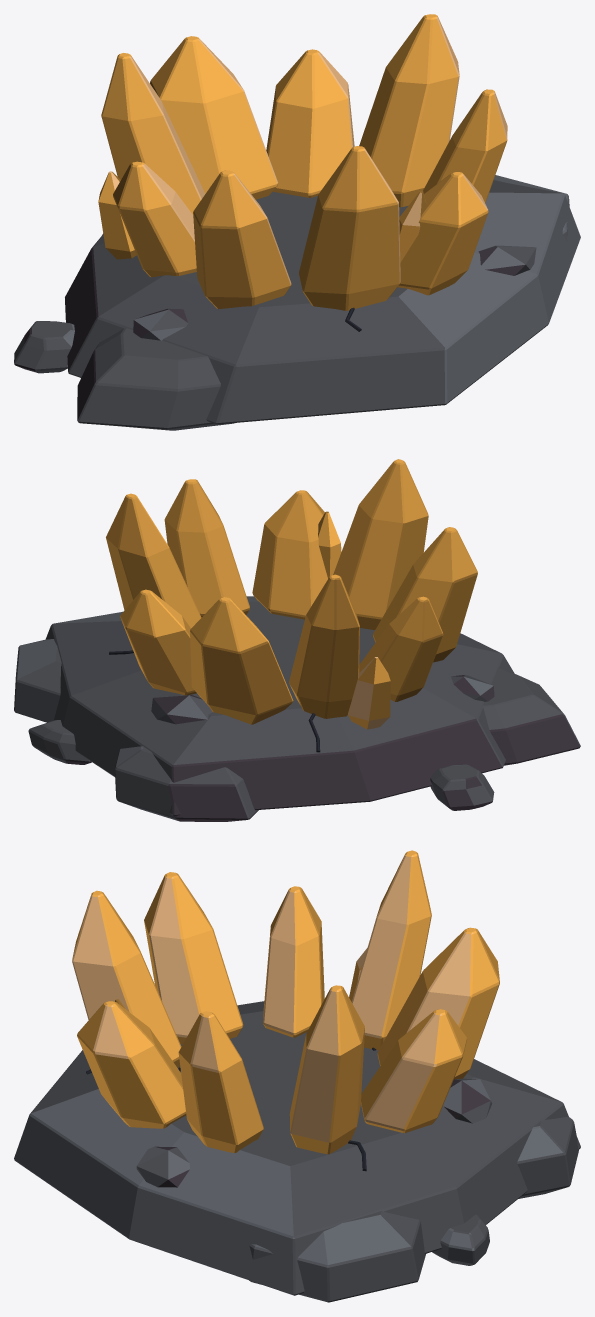
The model's file is BH_ORE_O14_Cristal_de_Brasa_V02.glb.
3 views of the same model, one above another, from view 1: azimuth 30°, elevation 25°; view 2: azimuth 150°, elevation 25°; view 3: azimuth 270°, elevation 25° (orthographic). The views are drawn at different scales.
Visible parts, largest first — view 1: Bedrock | primary.003, O14 | shard 3.003, O14 | shard 6.003, Bedrock | shoulder 1.003, O14 | shard 8.003, O14 | shard 7.003, O14 | shard 2.003, O14 | shard 9.003, O14 | shard 4.003, O14 | shard 1.003, O14 | shard 5.003, Loose chip 2.003 (+4 smaller); view 2: Bedrock | primary.003, O14 | shard 3.003, O14 | shard 8.003, O14 | shard 9.003, O14 | shard 4.003, Bedrock | shoulder 3.003, O14 | shard 5.003, O14 | shard 6.003, Bedrock | shoulder 1.003, O14 | shard 2.003, O14 | shard 7.003, O14 | shard 1.003 (+7 smaller); view 3: Bedrock | primary.003, O14 | shard 2.003, O14 | shard 6.003, Bedrock | shoulder 2.003, O14 | shard 4.003, O14 | shard 9.003, O14 | shard 7.003, O14 | shard 3.003, O14 | shard 5.003, O14 | shard 8.003, O14 | shard 1.003, Bedrock | shoulder 3.003 (+3 smaller).
Part boxes in pixels (x1=…): Bedrock | primary.003: x1=65, y1=180, x2=580, y2=424; O14 | shard 3.003: x1=299, y1=146, x2=400, y2=310; O14 | shard 6.003: x1=359, y1=14, x2=459, y2=207; Bedrock | shoulder 1.003: x1=77, y1=328, x2=234, y2=430; O14 | shard 8.003: x1=150, y1=36, x2=277, y2=199; O14 | shard 7.003: x1=266, y1=49, x2=354, y2=197; O14 | shard 2.003: x1=193, y1=170, x2=291, y2=309; O14 | shard 9.003: x1=101, y1=53, x2=204, y2=214; O14 | shard 4.003: x1=397, y1=172, x2=488, y2=295; O14 | shard 1.003: x1=113, y1=161, x2=196, y2=277; O14 | shard 5.003: x1=423, y1=89, x2=507, y2=203; Loose chip 2.003: x1=14, y1=321, x2=74, y2=373; Bedrock | primary.003: x1=45, y1=596, x2=514, y2=816; O14 | shard 3.003: x1=333, y1=459, x2=428, y2=629; O14 | shard 8.003: x1=190, y1=597, x2=293, y2=724; O14 | shard 9.003: x1=289, y1=574, x2=359, y2=718; O14 | shard 4.003: x1=252, y1=490, x2=327, y2=619; Bedrock | shoulder 3.003: x1=114, y1=746, x2=258, y2=821; O14 | shard 5.003: x1=164, y1=479, x2=249, y2=617; O14 | shard 6.003: x1=106, y1=493, x2=201, y2=628; Bedrock | shoulder 1.003: x1=483, y1=667, x2=580, y2=765; O14 | shard 2.003: x1=373, y1=527, x2=477, y2=662; O14 | shard 7.003: x1=120, y1=589, x2=196, y2=695; O14 | shard 1.003: x1=359, y1=596, x2=443, y2=701; Bedrock | primary.003: x1=14, y1=1001, x2=580, y2=1295; O14 | shard 2.003: x1=144, y1=872, x2=243, y2=1044; O14 | shard 6.003: x1=289, y1=985, x2=364, y2=1154; Bedrock | shoulder 2.003: x1=249, y1=1211, x2=425, y2=1302; O14 | shard 4.003: x1=77, y1=1001, x2=186, y2=1128; O14 | shard 9.003: x1=351, y1=850, x2=431, y2=1050; O14 | shard 7.003: x1=361, y1=1009, x2=467, y2=1133; O14 | shard 3.003: x1=72, y1=890, x2=181, y2=1068; O14 | shard 5.003: x1=178, y1=1011, x2=263, y2=1152; O14 | shard 8.003: x1=377, y1=927, x2=499, y2=1079; O14 | shard 1.003: x1=263, y1=886, x2=324, y2=1037; Bedrock | shoulder 3.003: x1=517, y1=1117, x2=579, y2=1198.
Size of the model in its own units: 3.17 by 1.39 by 2.67.
